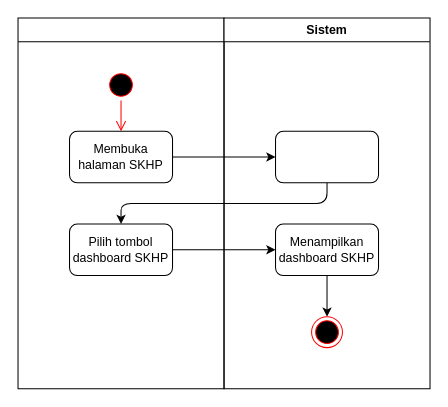
This 448x407 diagram has some shape labels left out. Here are the shapes that lost their labels. From the top down, the box of each, then its label:
(274, 130, 379, 183): Menampilkan halaman SKHP
(17, 17, 224, 389): User
